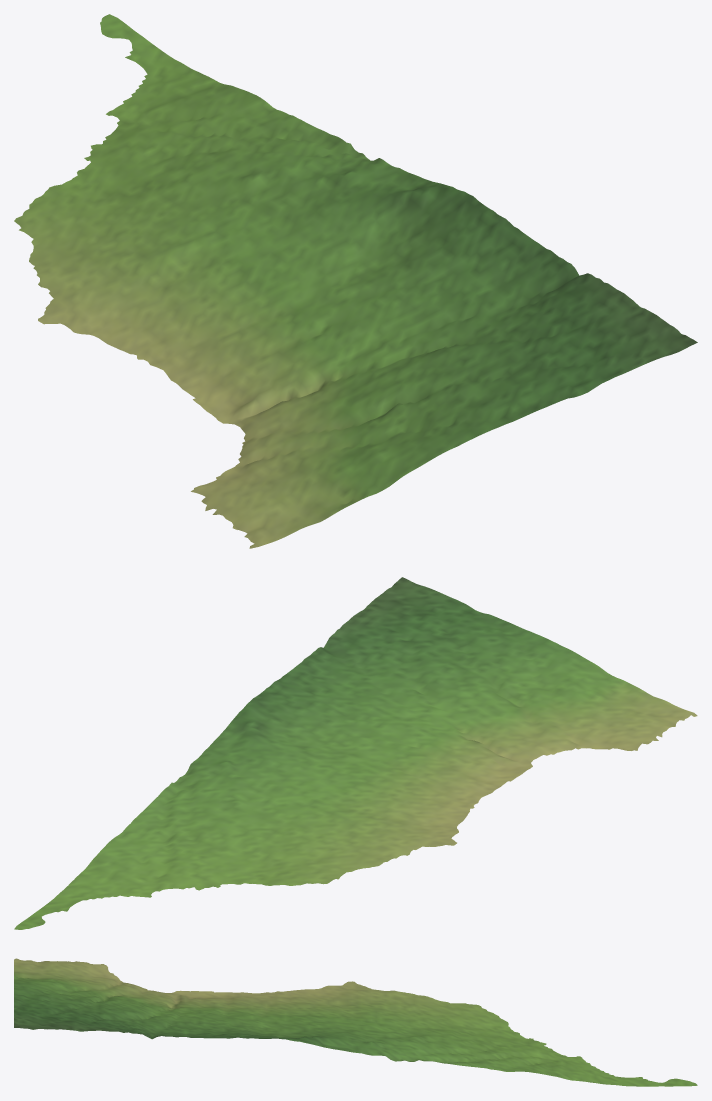
File: lareunion-terrain-4.glb
The picture shows the model from 3 angles, top to bottom: view 1: azimuth 30°, elevation 25°; view 2: azimuth 150°, elevation 25°; view 3: azimuth 270°, elevation 25°; orthographic projection. The views are drawn at different scales.
Parts seen in each view (by area): view 1: LaReunionRgeAltiTerrain_4; view 2: LaReunionRgeAltiTerrain_4; view 3: LaReunionRgeAltiTerrain_4.
Part boxes in pixels (bbox=[...]): LaReunionRgeAltiTerrain_4: bbox=[14, 14, 697, 548]; LaReunionRgeAltiTerrain_4: bbox=[14, 577, 697, 929]; LaReunionRgeAltiTerrain_4: bbox=[14, 958, 697, 1086].
Size of the model in its own units: 22.41 by 4.84 by 50.99.
